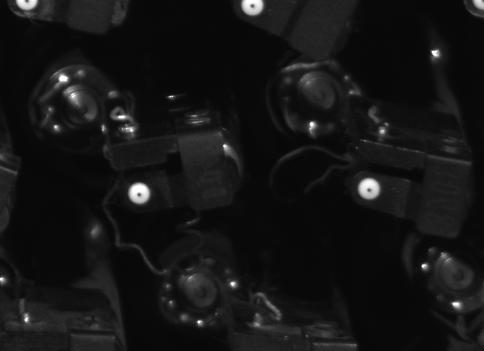fiber: (353, 173, 386, 206), (123, 179, 158, 209), (237, 1, 268, 19), (12, 1, 41, 12)
